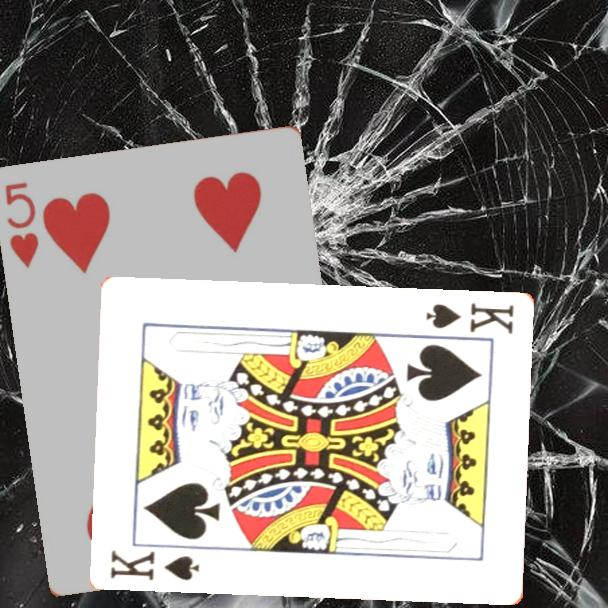h05: (2, 178, 43, 271)
s13: (108, 546, 203, 583), (423, 299, 517, 336)
